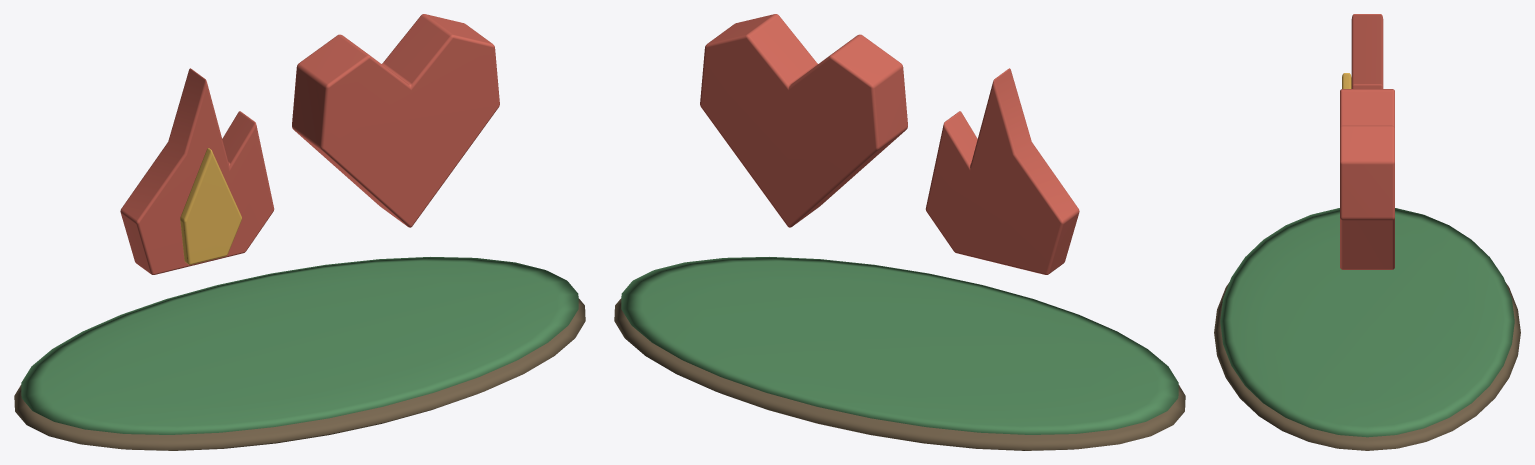
File: warm-heart.glb
3 views of the same model, side by side, from view 1: azimuth 30°, elevation 25°; view 2: azimuth 150°, elevation 25°; view 3: azimuth 270°, elevation 25° (orthographic). The views are drawn at different scales.
Parts seen in each view (by area): view 1: warm-heart_surface_01, warm-heart_surface_02, warm-heart_surface_00, warm-heart_surface_03; view 2: warm-heart_surface_01, warm-heart_surface_02, warm-heart_surface_00; view 3: warm-heart_surface_01, warm-heart_surface_02, warm-heart_surface_00.
Part boxes in pixels (left/top/right/bottom): warm-heart_surface_01: left=21, top=257, right=578, bottom=434; warm-heart_surface_02: left=120, top=14, right=499, bottom=274; warm-heart_surface_00: left=14, top=298, right=585, bottom=450; warm-heart_surface_03: left=180, top=148, right=241, bottom=264; warm-heart_surface_01: left=621, top=257, right=1178, bottom=434; warm-heart_surface_02: left=700, top=14, right=1079, bottom=274; warm-heart_surface_00: left=614, top=298, right=1185, bottom=450; warm-heart_surface_01: left=1220, top=208, right=1514, bottom=437; warm-heart_surface_02: left=1340, top=14, right=1394, bottom=269; warm-heart_surface_00: left=1214, top=282, right=1520, bottom=450.
Size of the model in its own units: 4.56 by 2.6 by 2.5.
